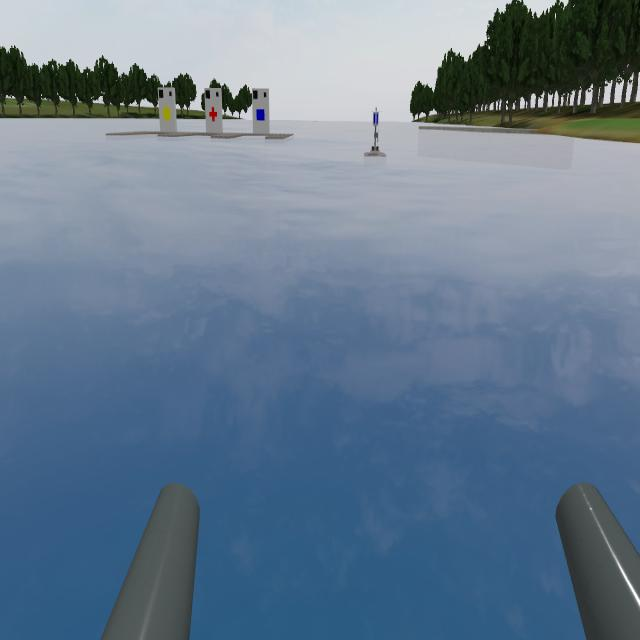blue_pole: (370, 102, 382, 135)
